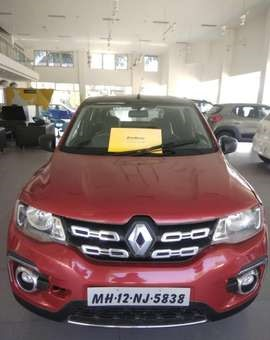MH12NJ5838: (87, 287, 189, 305)
